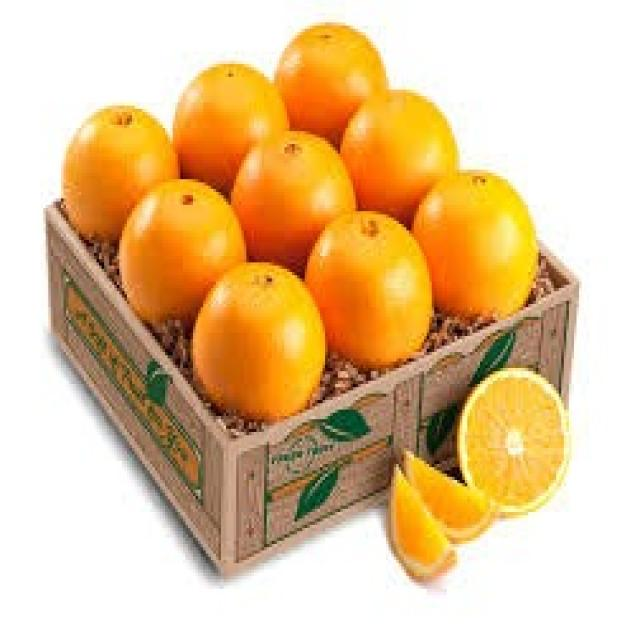Good_Orange: (193, 262, 328, 426), (302, 211, 434, 378), (117, 179, 249, 326), (414, 173, 543, 320), (229, 131, 358, 272), (61, 106, 180, 240), (338, 93, 462, 218)
